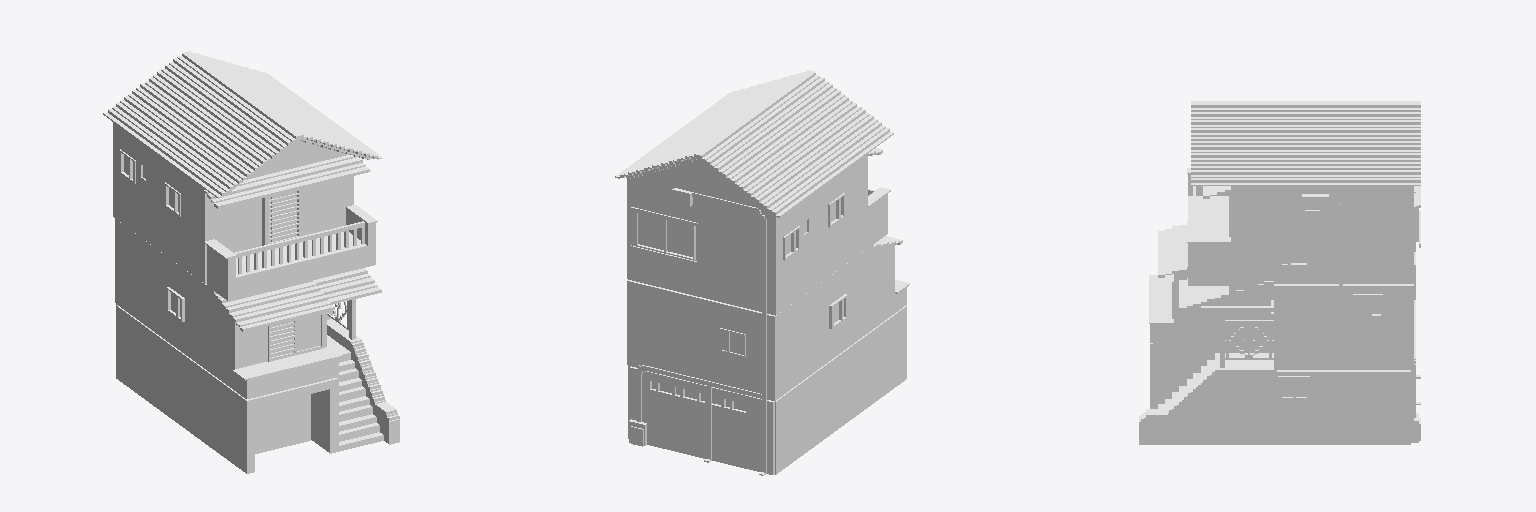
The model's file is GDS2_Build1-0.obj.
The picture shows the model from 3 angles: view 1: azimuth 30°, elevation 25°; view 2: azimuth 150°, elevation 25°; view 3: azimuth 270°, elevation 25°; orthographic projection.
Parts seen in each view (by area): view 1: object 1; view 2: object 1; view 3: object 1.
Boxes of the visible parts, <box> form: object 1: <box>103,51,399,473</box>; object 1: <box>615,70,909,475</box>; object 1: <box>1139,101,1420,444</box>.
Bounding box in the file's own units: 12 × 21.3 × 17.8.